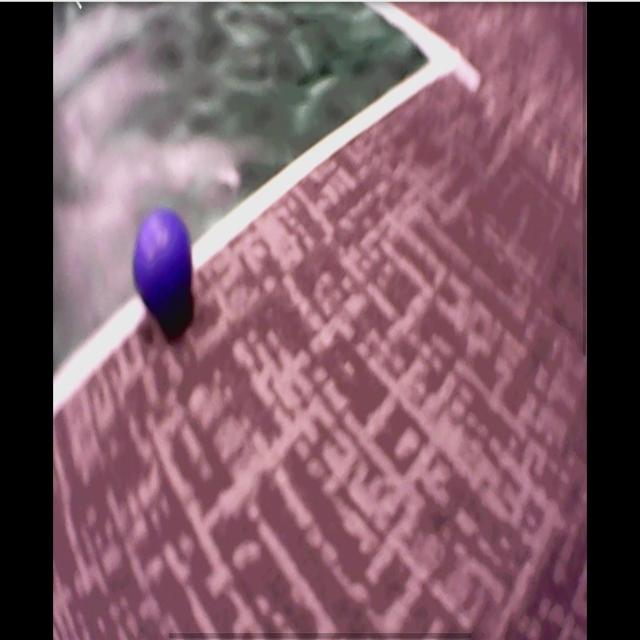ball: (134, 208, 193, 314)
